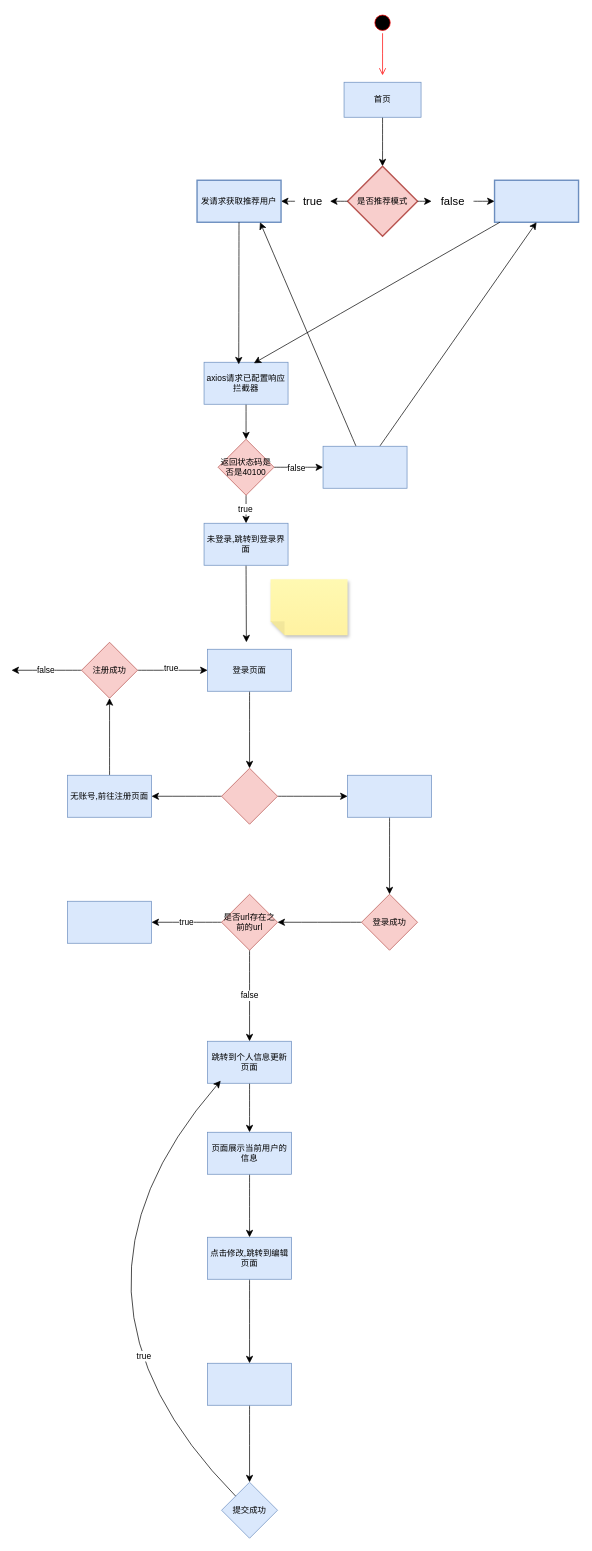
The diagram is 592 pixels wide and 1551 high, and some of its shapes have lost their labels. The shapes that lost their labels are listed below. From the top down, each one's centre as x and y in pixels, then its label:
[536,201]: 发请求获取全部用户
[364,467]: 已登录,返回数据
[309,608]: 注意携带上当前的url
[249,796]: 有无账号
[389,796]: 有账号,登录
[109,922]: 跳转到之前页面
[249,1384]: 修改信息,点击提交修改
